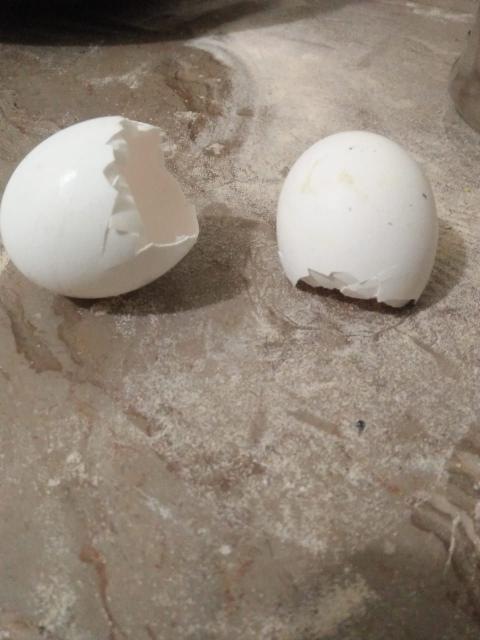Roto: (0, 114, 200, 300), (275, 128, 439, 308)
